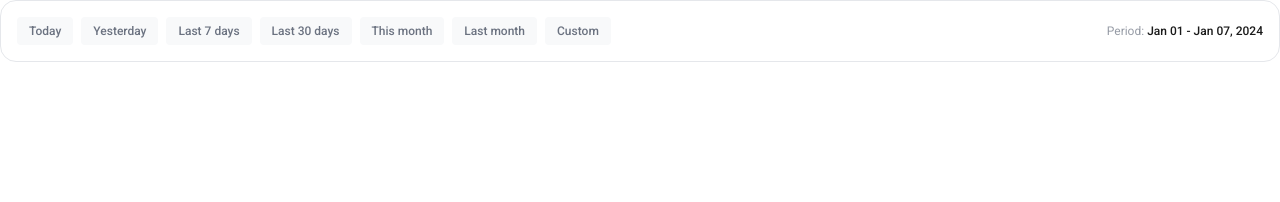
Test: DateRangePicker › should show error when start > end
# Open custom picker
Click the button "Custom" at (578,31), box [545,17,611,45]
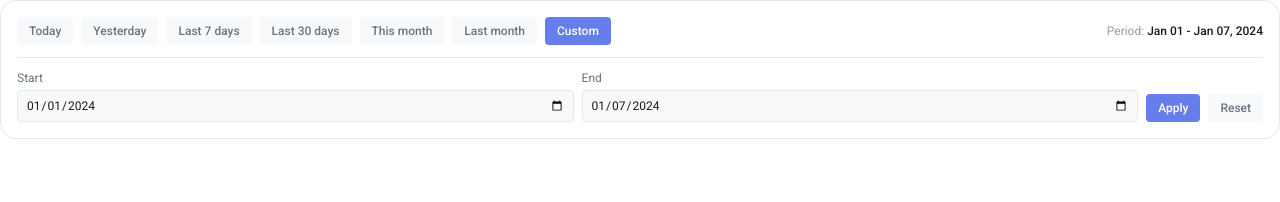
Type "2024-12-31" into the date field labelled "Start" at (295,106), box [17,90,574,122]
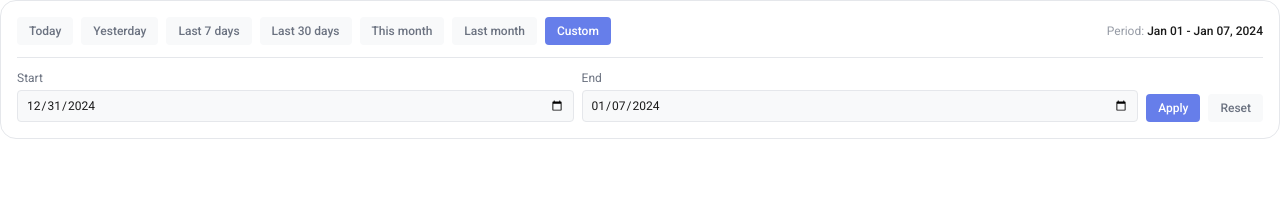
Type "2024-01-01" into the date field labelled "End" at (860,106), box [582,90,1138,122]
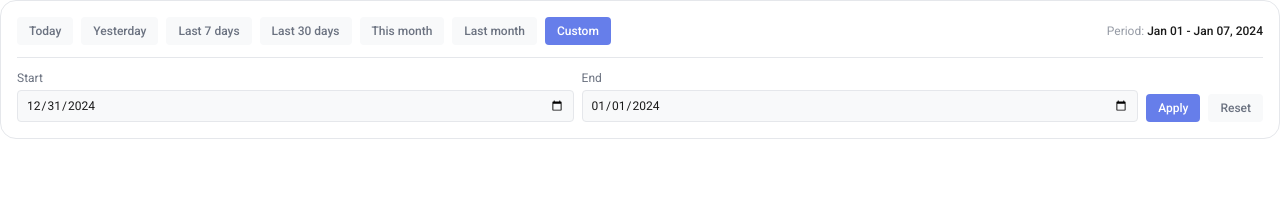
# Click Apply
Click the button "Apply" at (1173,108), box [1146,94,1200,122]
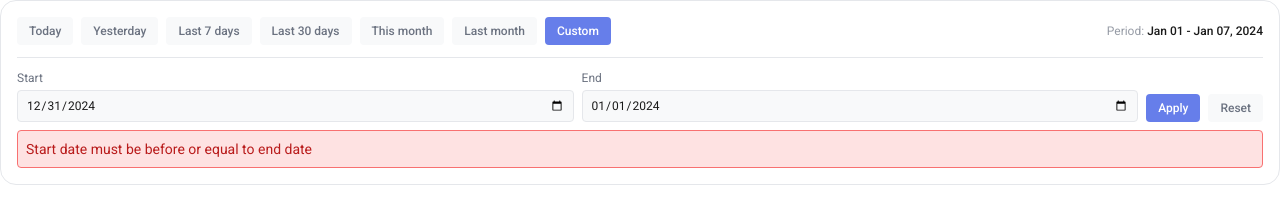
Result: the text "Start date must be before or equal to end date" is shown at [17,130,1263,168]
